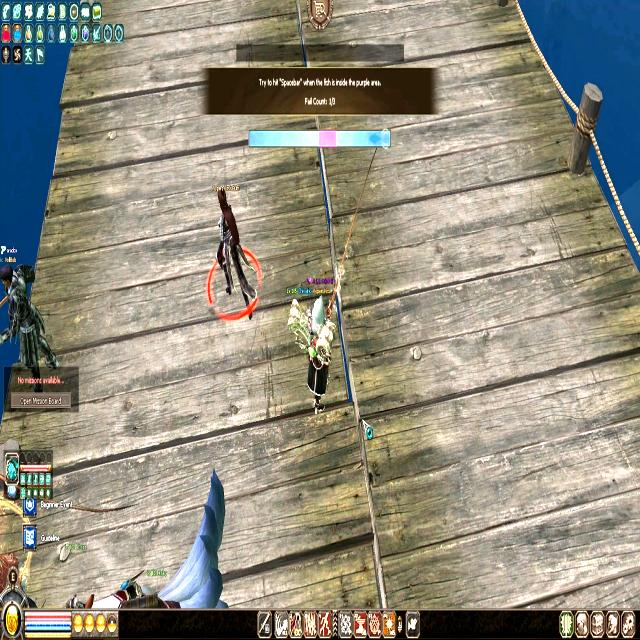fishes: (368, 130, 382, 148)
